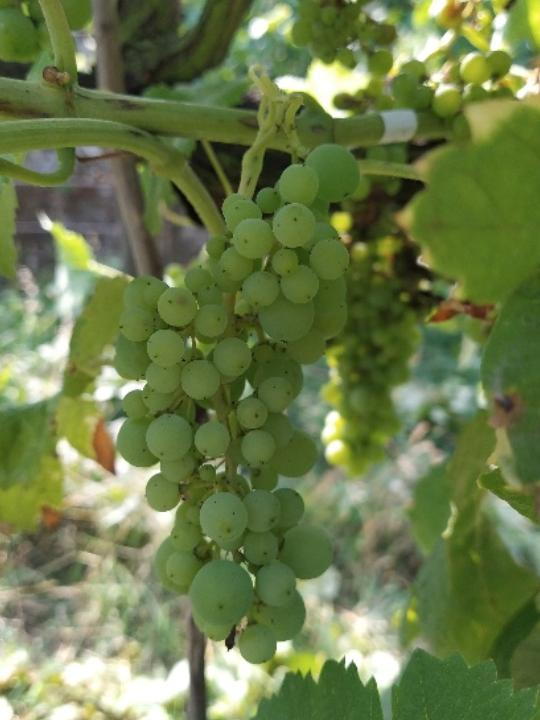grape: (113, 138, 364, 669)
